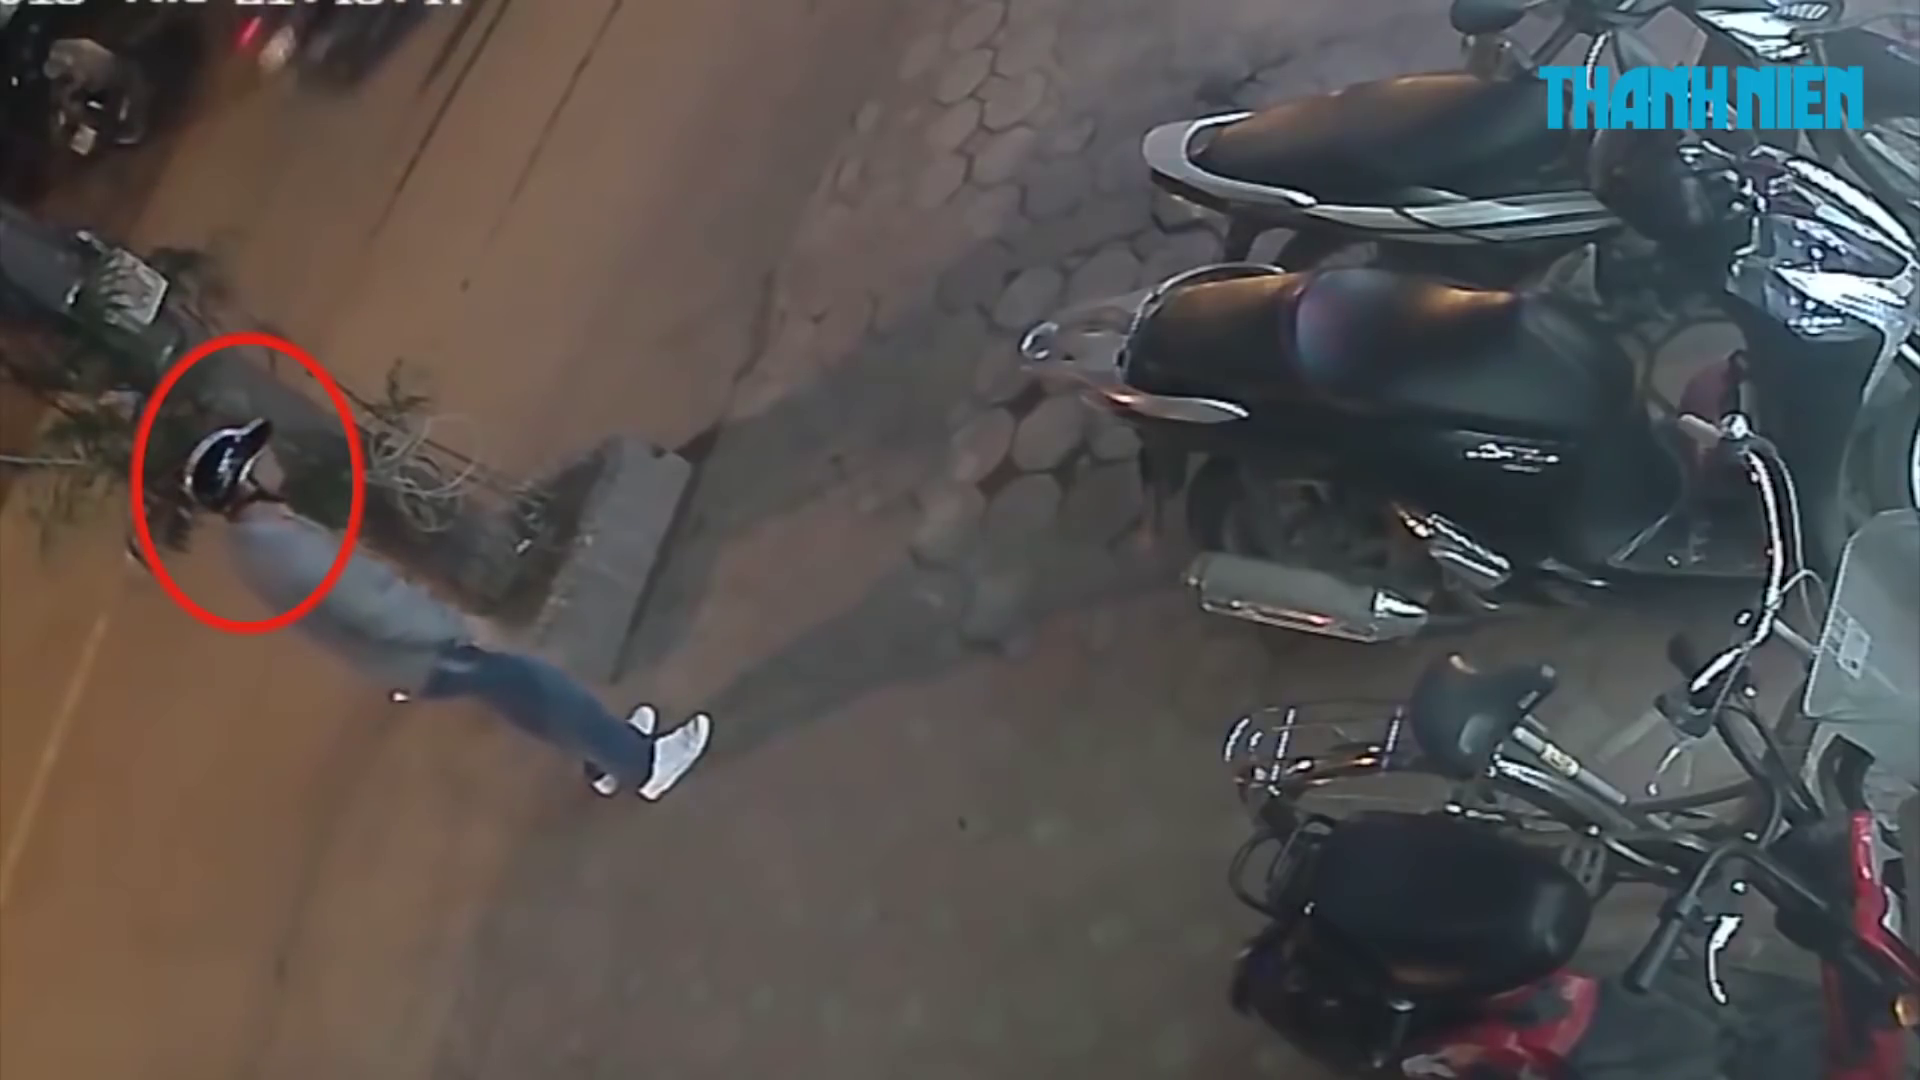Motorcycle: (1018, 70, 1917, 976), (1022, 58, 1919, 700), (1226, 485, 1919, 1063), (1138, 1, 1919, 295)
